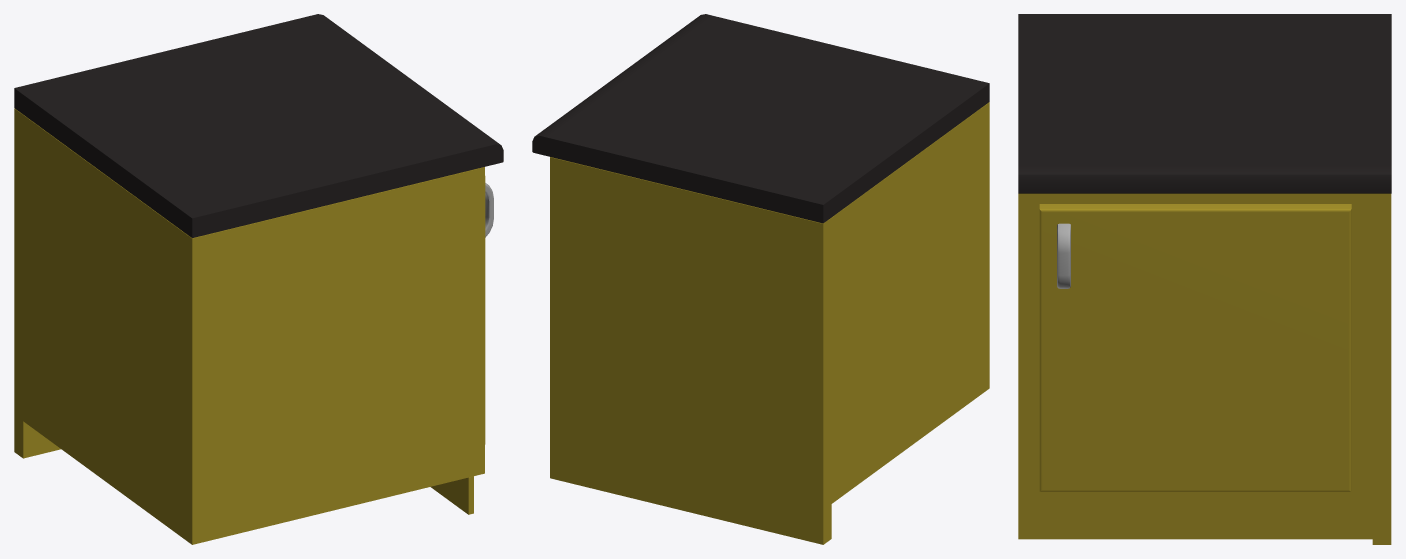
The model's file is Right End Unit.fbx.
3 renders of one model, left to right at view 1: azimuth 30°, elevation 25°; view 2: azimuth 150°, elevation 25°; view 3: azimuth 270°, elevation 25°, orthographic. The views are drawn at different scales.
Visible parts, largest first — view 1: Right_End_Unit; view 2: Right_End_Unit; view 3: Right_End_Unit.
Part boxes in pixels (bbox=[...]): Right_End_Unit: bbox=[14, 14, 503, 544]; Right_End_Unit: bbox=[532, 14, 989, 544]; Right_End_Unit: bbox=[1018, 14, 1391, 544].
Bounding box in the file's own units: 110 × 119 × 105.
